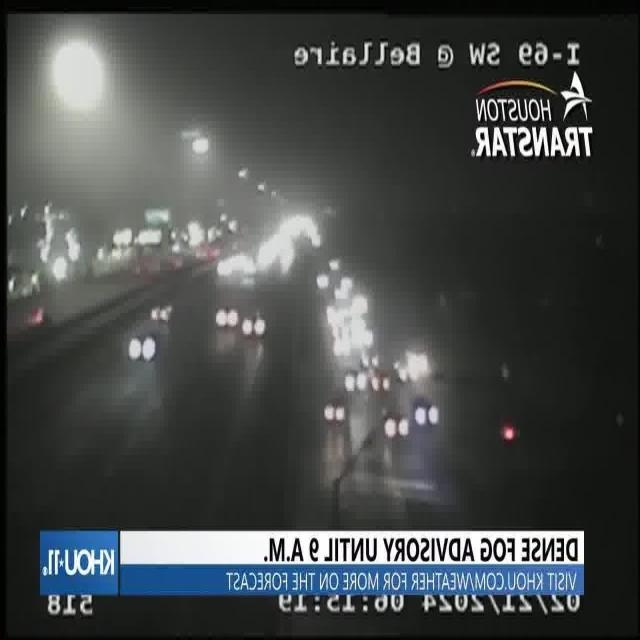Car: (126, 327, 159, 369), (381, 406, 408, 442), (240, 305, 267, 340), (413, 396, 442, 428), (322, 398, 349, 427), (213, 304, 239, 332), (344, 367, 366, 397), (368, 371, 393, 396), (148, 300, 174, 320)
